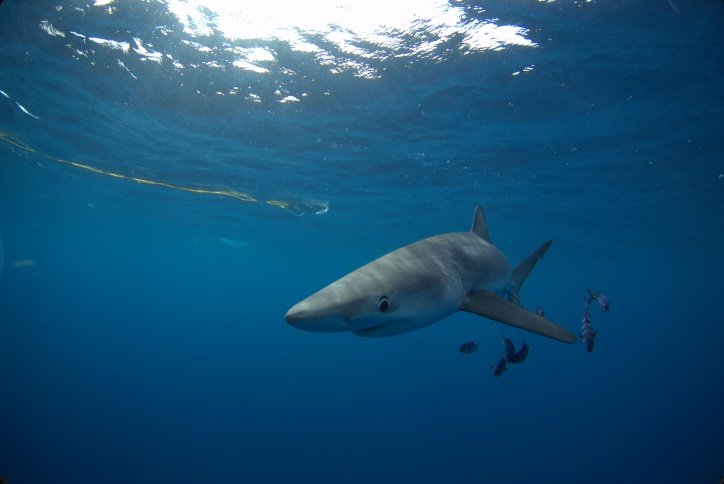Azul: (271, 195, 581, 373)
